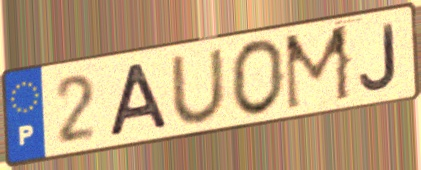2: (54, 72, 101, 148)
A: (108, 59, 173, 140)
J: (357, 21, 400, 93)
M: (281, 21, 355, 115)
O: (227, 36, 287, 119)
U: (167, 45, 230, 126)
